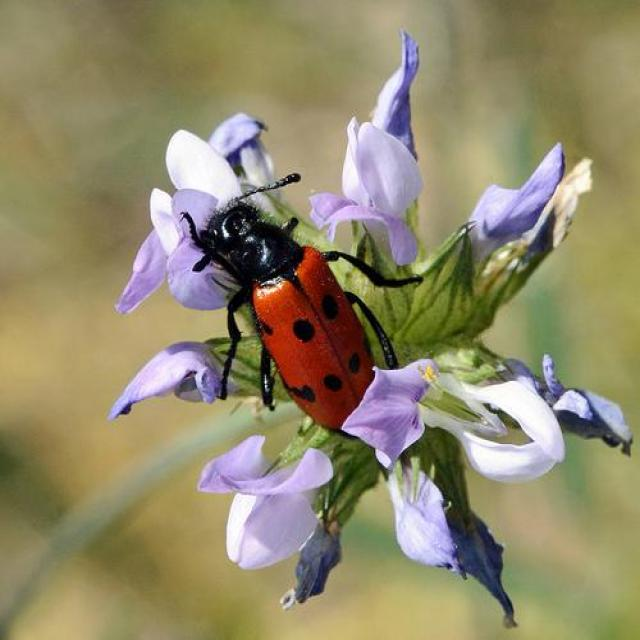BlisterBeetle-Adult-: (165, 172, 426, 454)
